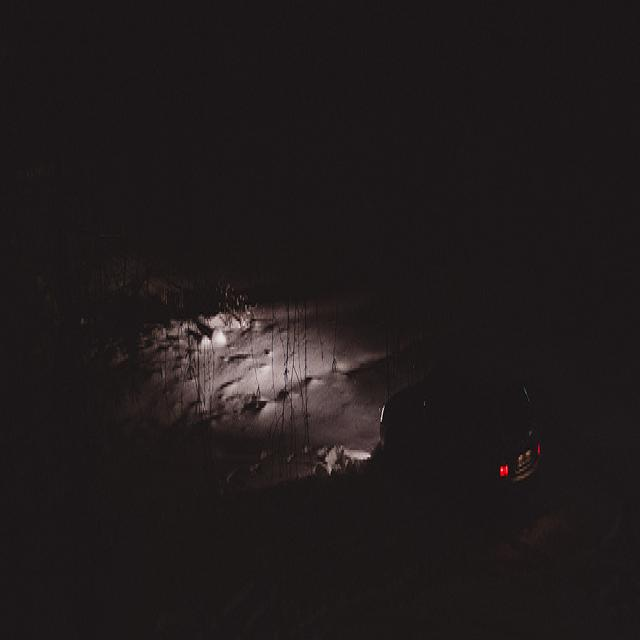Car: (380, 368, 542, 504)
